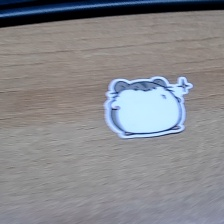mouse: (103, 73, 194, 141)
